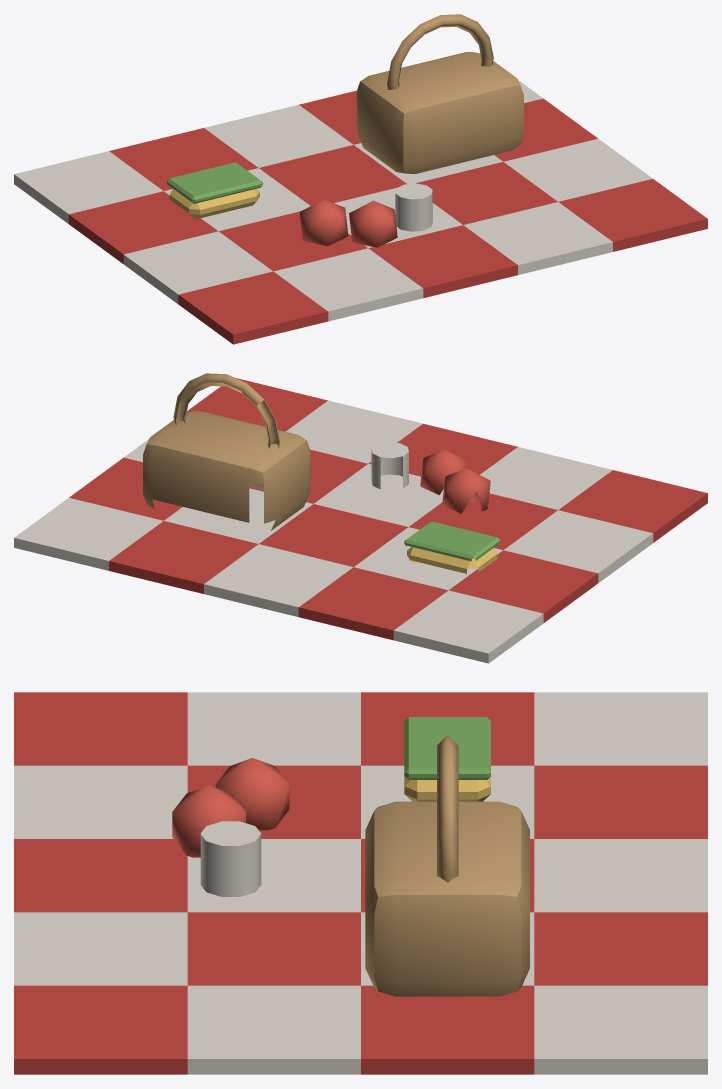
The model's file is ac_picnic.glb.
3 renders of one model, top to bottom at view 1: azimuth 30°, elevation 25°; view 2: azimuth 150°, elevation 25°; view 3: azimuth 270°, elevation 25°, orthographic. The views are drawn at different scales.
Parts seen in each view (by area): view 1: box; view 2: box; view 3: box.
Boxes of the visible parts, left/top/right/bottom form: box: left=14, top=14, right=707, bottom=344; box: left=14, top=373, right=707, bottom=663; box: left=14, top=692, right=707, bottom=1074.
Bounding box in the file's own units: 2 × 0.585 × 1.6.
